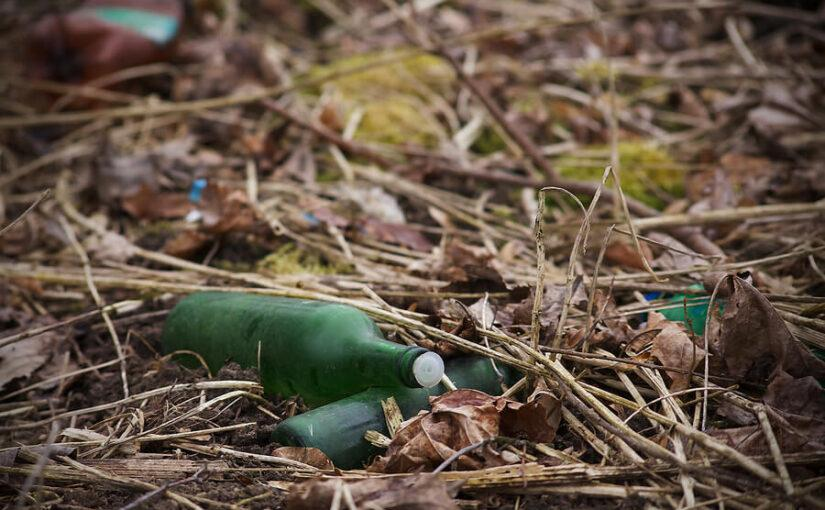Glass: (158, 282, 448, 394)
